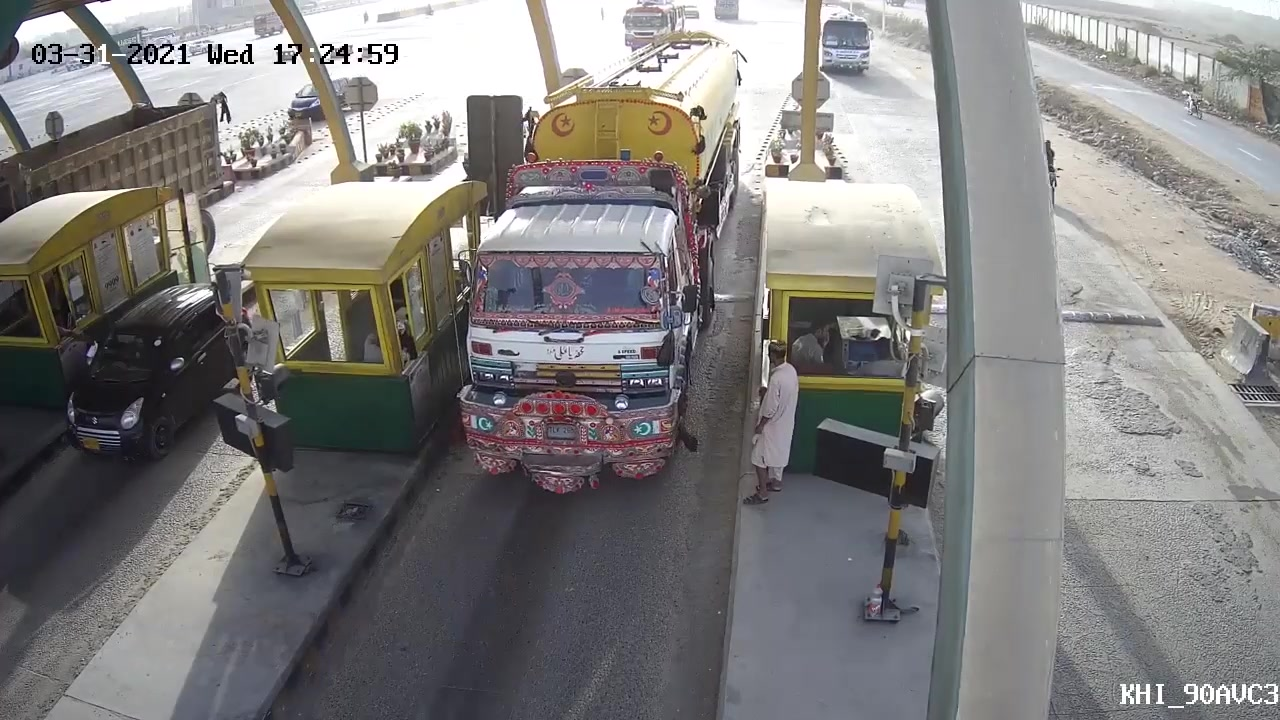F6: (447, 26, 746, 496)
